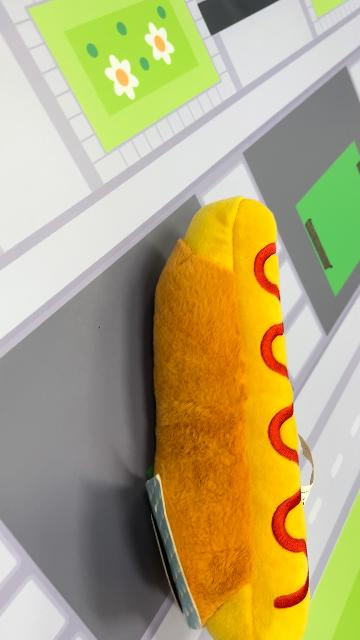hotdog: (146, 195, 314, 638)
